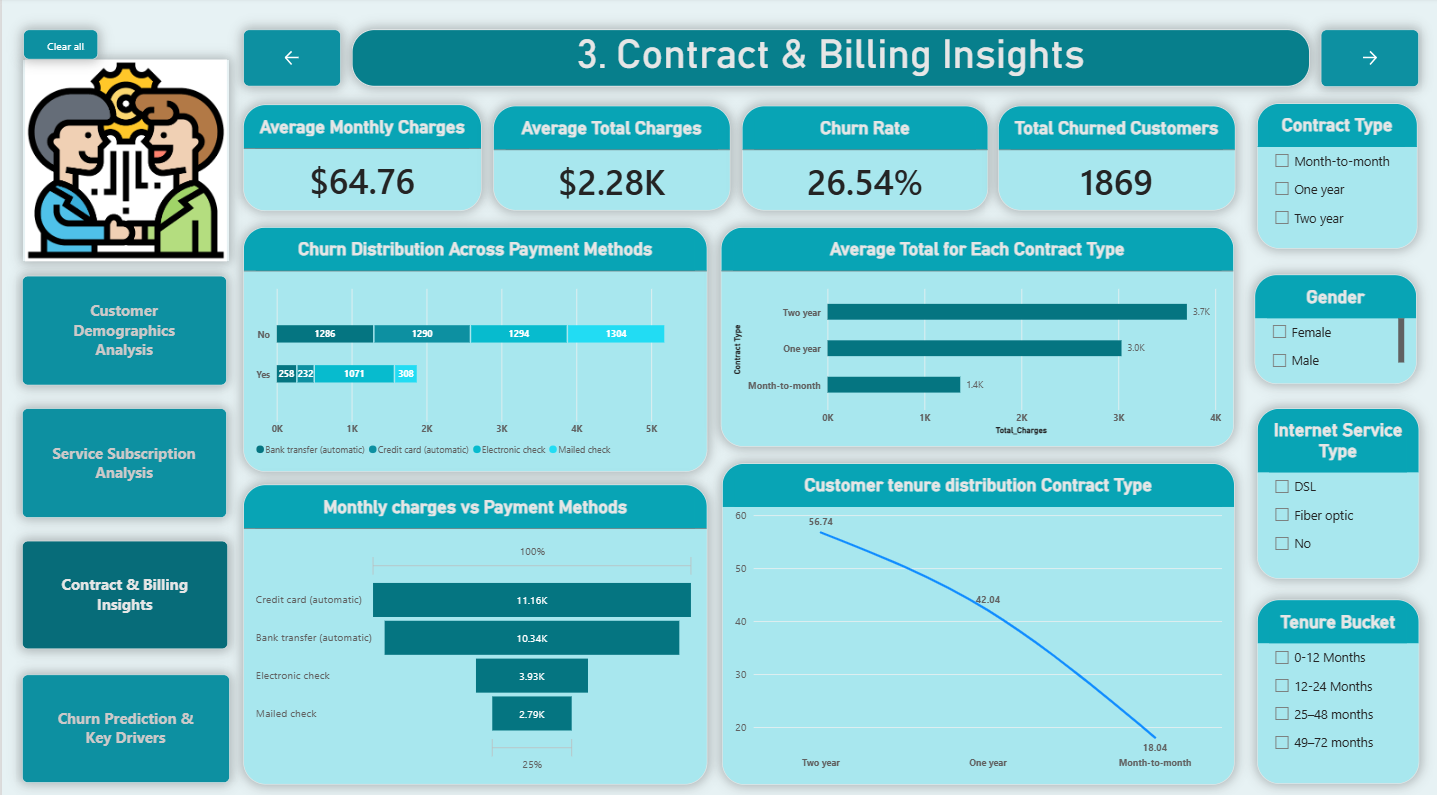

Layout of this report page (visuals, bound fields, positions):
{"tool":"powerbi","page":{"name":"Contract & Billing Insights","canvas":[1920,1080],"ordinal":12},"visuals":[{"type":"textbox","title":"3. Contract & Billing Insights","box":[467.4,42.8,1279.4,76.4],"z":0},{"type":"slicer","title":"Gender","fields":{"Values":["WA_Fn-UseC_-Telco-Customer-Churn.gender"]},"box":[1673.4,370.4,216.8,146.8],"z":1000},{"type":"slicer","title":"Contract Type","fields":{"Values":["WA_Fn-UseC_-Telco-Customer-Churn.Contract"]},"box":[1675.7,142.3,214.5,194.2],"z":2000},{"type":"slicer","title":"Internet Service Type","fields":{"Values":["WA_Fn-UseC_-Telco-Customer-Churn.InternetService"]},"box":[1675.7,548.8,216.8,228.1],"z":3000},{"type":"slicer","title":"Tenure Bucket","fields":{"Values":["WA_Fn-UseC_-Telco-Customer-Churn.Tenure_Bucket"]},"box":[1676,804.5,216.8,246.2],"z":4000},{"type":"image","box":[27.9,83.6,275.1,269.5],"z":5000},{"type":"pageNavigator","box":[27.1,548.8,273.3,146.8],"z":6000},{"type":"pageNavigator","box":[27.1,727.2,275.5,144.5],"z":7000},{"type":"pageNavigator","box":[27.1,905.6,277.8,144.5],"z":8000},{"type":"pageNavigator","box":[27.1,372.6,273.3,146.8],"z":9000},{"type":"actionButton","box":[322.2,42.8,130.4,76.4],"z":10000},{"type":"actionButton","box":[1761.5,42.9,131,76.8],"z":11000},{"type":"actionButton","box":[27.9,42.8,100,40],"z":12000},{"type":"card","title":"Average Monthly Charges","fields":{"Values":["WA_Fn-UseC_-Telco-Customer-Churn.Average_monthly_charges"]},"box":[321.8,143.8,318.2,142],"z":13000},{"type":"card","title":"Average Total Charges","fields":{"Values":["WA_Fn-UseC_-Telco-Customer-Churn.Total_Charges_Average"]},"box":[656.2,145.6,316.4,140.2],"z":14000},{"type":"card","title":"Churn Rate","fields":{"Values":["WA_Fn-UseC_-Telco-Customer-Churn.Churn_Rate"]},"box":[988.8,145.6,329,140.2],"z":15000},{"type":"card","title":"Total Churned Customers","fields":{"Values":["WA_Fn-UseC_-Telco-Customer-Churn.Churned_Customers"]},"box":[1330.3,145.6,316.4,140.2],"z":16000},{"type":"barChart","title":"Churn Distribution Across Payment Methods","fields":{"Category":["WA_Fn-UseC_-Telco-Customer-Churn.Churn"],"Series":["WA_Fn-UseC_-Telco-Customer-Churn.PaymentMethod"],"Y":["CountNonNull(WA_Fn-UseC_-Telco-Customer-Churn.PaymentMethod)"]},"box":[321.8,307.4,620.2,327.2],"z":17000},{"type":"lineChart","title":"Customer tenure distribution Contract Type","fields":{"Category":["WA_Fn-UseC_-Telco-Customer-Churn.Contract"],"Y":["WA_Fn-UseC_-Telco-Customer-Churn.Average_Tenure"]},"box":[961.8,622,684.9,429.7],"z":18000},{"type":"funnel","title":"Monthly charges vs Payment Methods","fields":{"Category":["WA_Fn-UseC_-Telco-Customer-Churn.PaymentMethod"],"Y":["Sum(WA_Fn-UseC_-Telco-Customer-Churn.MonthlyCharges)"]},"box":[321.8,650.8,620.2,400.9],"z":19000},{"type":"clusteredBarChart","title":"Average Total for Each Contract Type","fields":{"Category":["WA_Fn-UseC_-Telco-Customer-Churn.Contract"],"Y":["WA_Fn-UseC_-Telco-Customer-Churn.Total_Charges_Average"]},"box":[960,307.4,685.8,293.7],"z":20000}]}

Visuals, with their boxes in screenshot pixels (x1, y1, x2, y2), scaled from the page's 1920x1080 canvas onto the 1437x795 screenshot:
"3. Contract & Billing Insights" textbox: [350, 32, 1307, 88]
"Gender" slicer: [1252, 273, 1415, 381]
"Contract Type" slicer: [1254, 105, 1415, 248]
"Internet Service Type" slicer: [1254, 404, 1416, 572]
"Tenure Bucket" slicer: [1254, 592, 1417, 773]
image: [21, 62, 227, 260]
pageNavigator: [20, 404, 225, 512]
pageNavigator: [20, 535, 226, 642]
pageNavigator: [20, 667, 228, 773]
pageNavigator: [20, 274, 225, 382]
actionButton: [241, 32, 339, 88]
actionButton: [1318, 32, 1416, 88]
actionButton: [21, 32, 96, 61]
"Average Monthly Charges" card: [241, 106, 479, 210]
"Average Total Charges" card: [491, 107, 728, 210]
"Churn Rate" card: [740, 107, 986, 210]
"Total Churned Customers" card: [996, 107, 1232, 210]
"Churn Distribution Across Payment Methods" barChart: [241, 226, 705, 467]
"Customer tenure distribution Contract Type" lineChart: [720, 458, 1232, 774]
"Monthly charges vs Payment Methods" funnel: [241, 479, 705, 774]
"Average Total for Each Contract Type" clusteredBarChart: [718, 226, 1232, 442]
